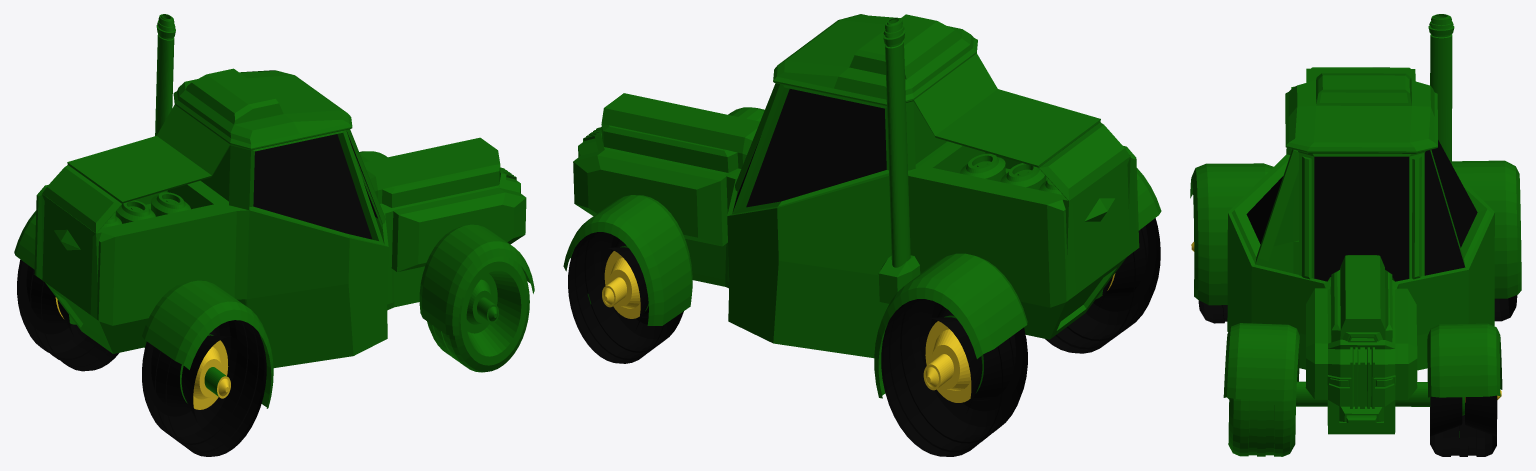
The model's file is tractor 1.fbx.
3 views of the same model, side by side, from view 1: azimuth 30°, elevation 25°; view 2: azimuth 150°, elevation 25°; view 3: azimuth 270°, elevation 25° (orthographic). The views are drawn at different scales.
Visible parts, largest first — view 1: Cylinder.001; view 2: Cylinder.001; view 3: Cylinder.001.
Boxes of the visible parts, bbox=[...] form: Cylinder.001: bbox=[14, 14, 534, 456]; Cylinder.001: bbox=[563, 14, 1161, 456]; Cylinder.001: bbox=[1190, 14, 1521, 456].
Bounding box in the file's own units: 3614 × 2595 × 2317.
